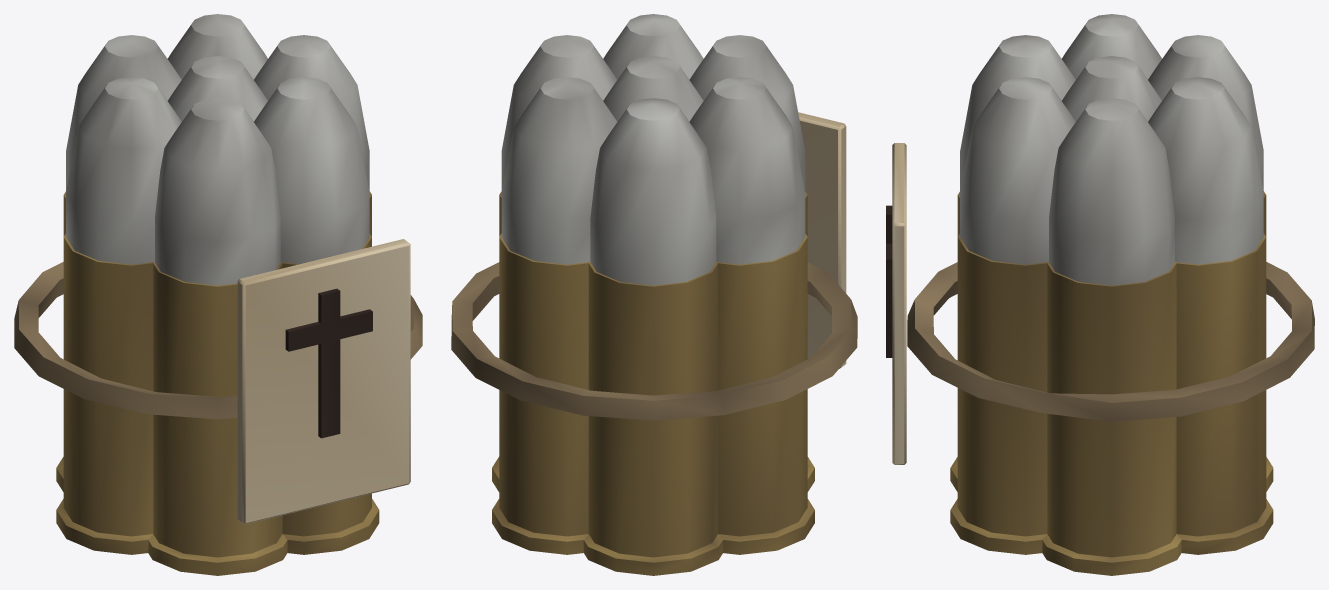
Rendered from blessed-rounds.glb.
The picture shows the model from 3 angles, left to right: view 1: azimuth 30°, elevation 25°; view 2: azimuth 150°, elevation 25°; view 3: azimuth 270°, elevation 25°; orthographic projection.
Visible parts, largest first — view 1: blessed-rounds; view 2: blessed-rounds; view 3: blessed-rounds.
Boxes of the visible parts, x1,y1,x2,y2 form: blessed-rounds: (14,14,422,575); blessed-rounds: (451,14,857,575); blessed-rounds: (886,14,1314,575).
Size of the model in its own units: 0.0339 by 0.04 by 0.0353.
